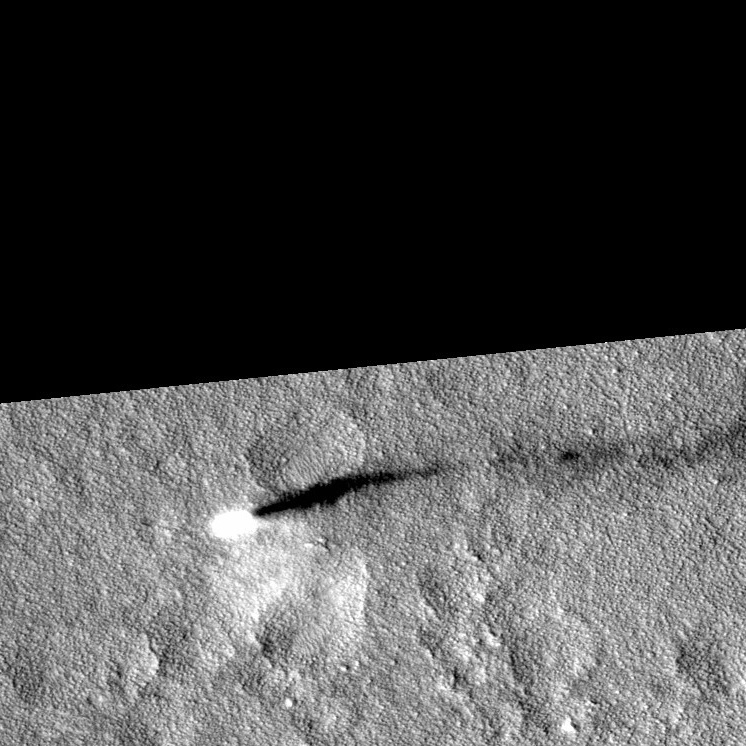dust_devil: (208, 458, 444, 543)
